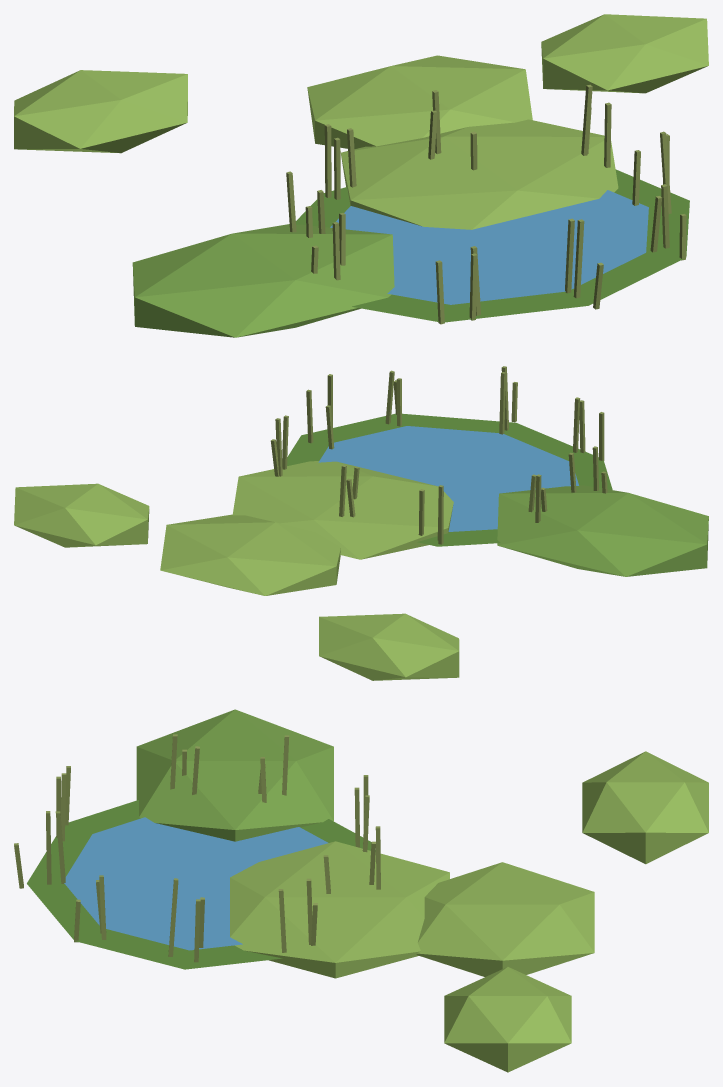
File: Kir_cimen_sazlik_7_Hafif.fbx
3 views of the same model, one above another, from view 1: azimuth 30°, elevation 25°; view 2: azimuth 150°, elevation 25°; view 3: azimuth 270°, elevation 25° (orthographic). The views are drawn at different scales.
Parts seen in each view (by area): view 1: Kir_cimen_sazlik_7_Hafif; view 2: Kir_cimen_sazlik_7_Hafif; view 3: Kir_cimen_sazlik_7_Hafif.
Part boxes in pixels (box(x1,y1,x2,y2)): Kir_cimen_sazlik_7_Hafif: box(14, 14, 708, 337); Kir_cimen_sazlik_7_Hafif: box(14, 366, 708, 680); Kir_cimen_sazlik_7_Hafif: box(14, 709, 708, 1072).
Bounding box in the file's own units: 13.9 × 1.99 × 12.2.
